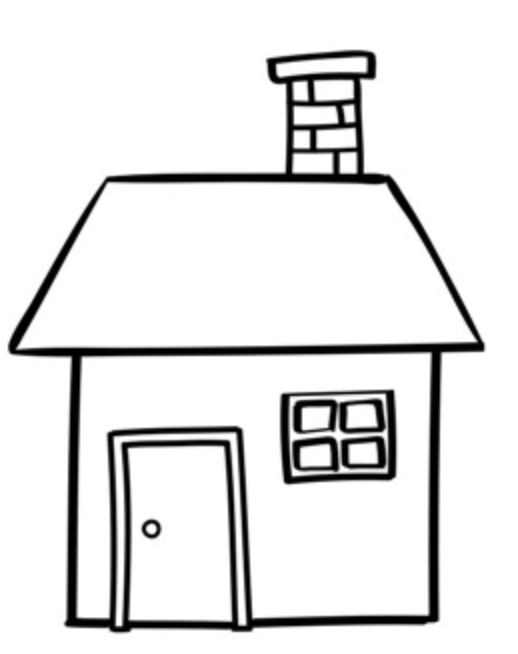House: (2, 41, 501, 633)
